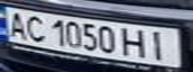0: (97, 24, 118, 55), (63, 19, 81, 49)
1: (45, 16, 66, 46)
5: (78, 20, 100, 52)
A: (3, 9, 30, 39)
C: (21, 12, 48, 43)
H: (118, 25, 151, 58)
I: (142, 28, 178, 61)
